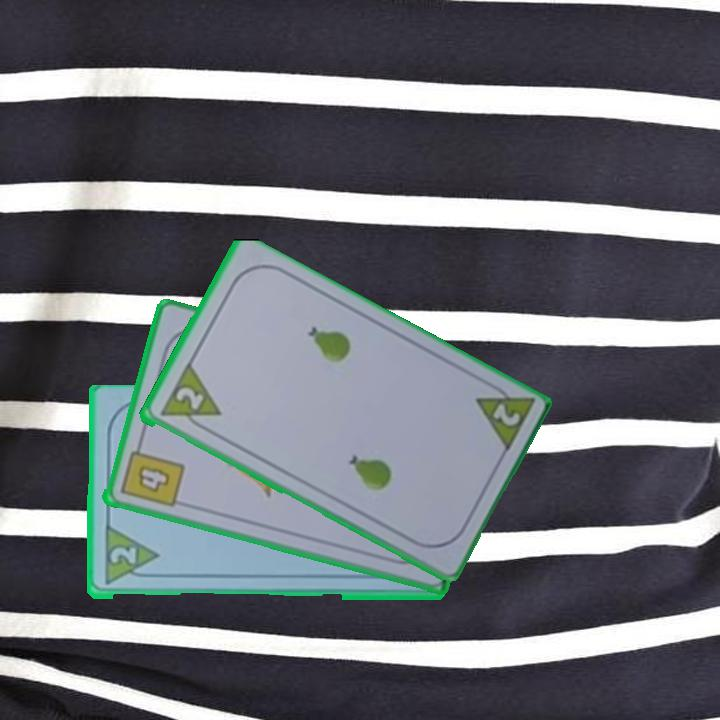2p: (171, 383, 207, 414), (488, 399, 523, 430), (106, 543, 139, 570)
4b: (116, 437, 186, 510)
